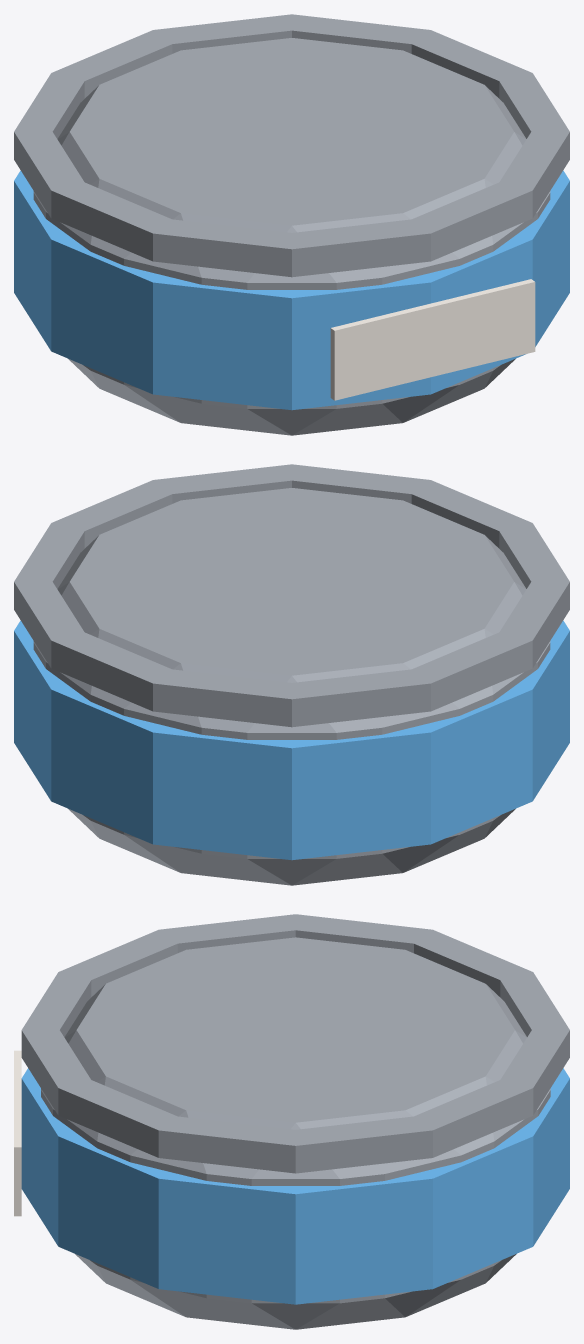
File: CatCafe_Item_TunaCan.fbx
3 renders of one model, top to bottom at view 1: azimuth 30°, elevation 25°; view 2: azimuth 150°, elevation 25°; view 3: azimuth 270°, elevation 25°, orthographic.
Parts seen in each view (by area): view 1: CatCafe_Item_TunaCan; view 2: CatCafe_Item_TunaCan; view 3: CatCafe_Item_TunaCan.
Boxes of the visible parts, bbox=[...] form: CatCafe_Item_TunaCan: bbox=[14, 14, 569, 435]; CatCafe_Item_TunaCan: bbox=[14, 464, 569, 885]; CatCafe_Item_TunaCan: bbox=[14, 914, 569, 1329].
Size of the model in its own units: 0.72 by 0.3 by 0.73.
1 material, 1 textured.
